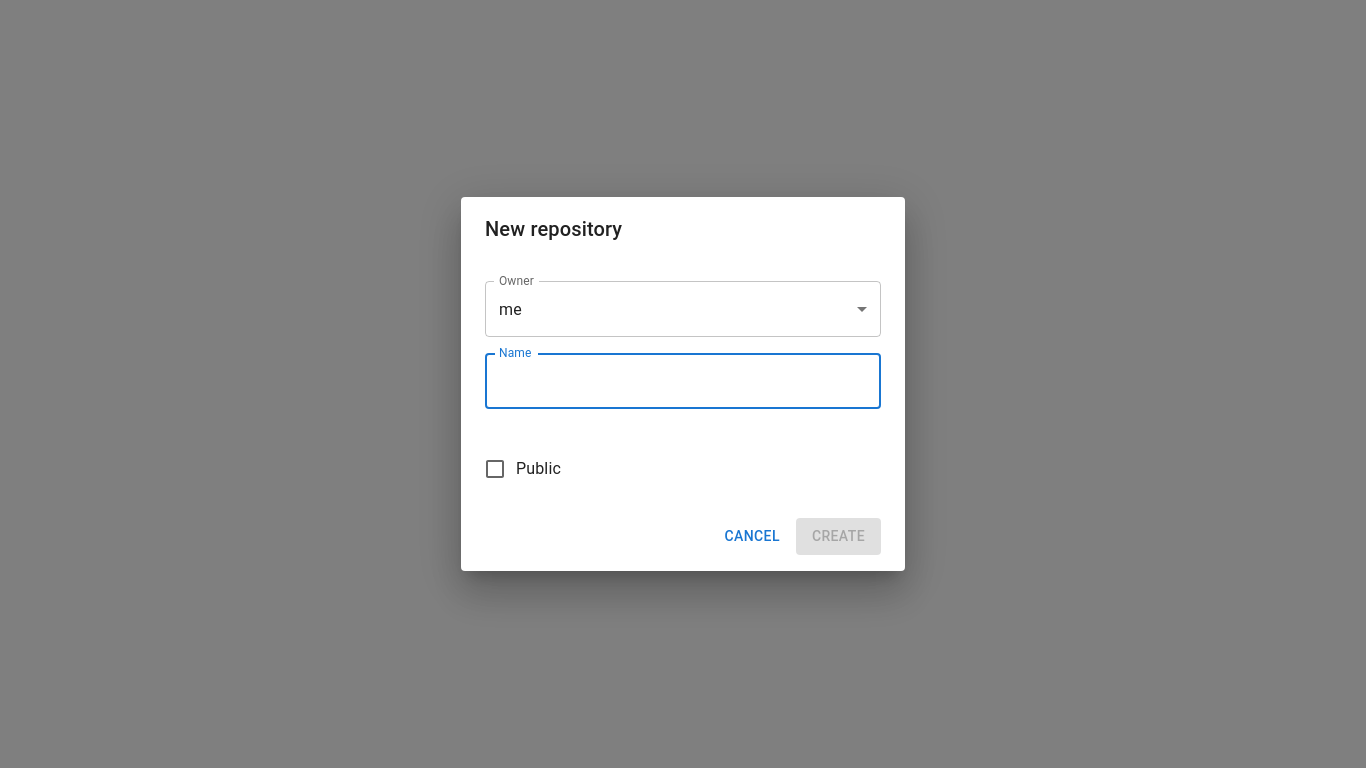
NewRepositoryDialog › on a lost answer shows the message, asks for the list again and replays the same key
Later steps or results of the test are not shown.
Type "demo" into the field labelled "Name". click: (683, 381)
box: left=485, top=353, right=881, bottom=409
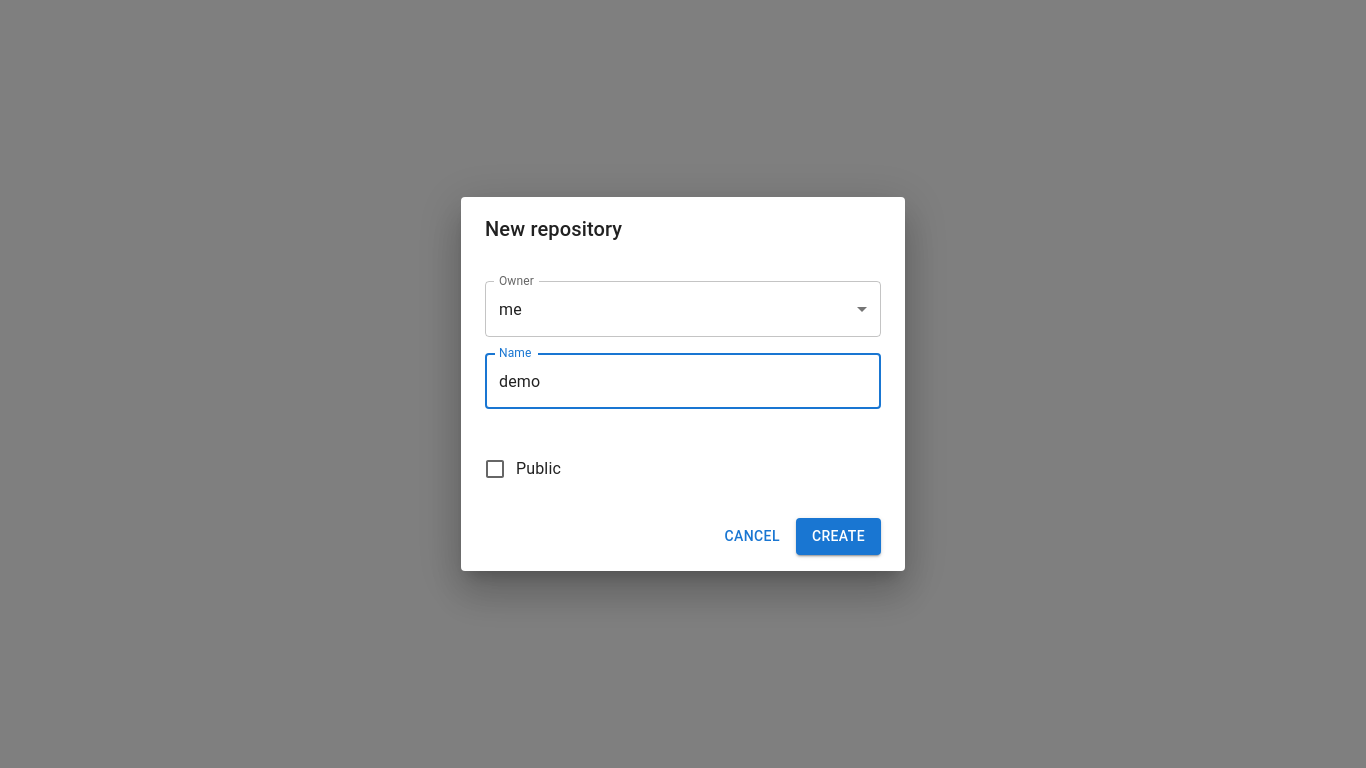
Click the button "Create". click: click(838, 536)
box: left=796, top=518, right=881, bottom=555
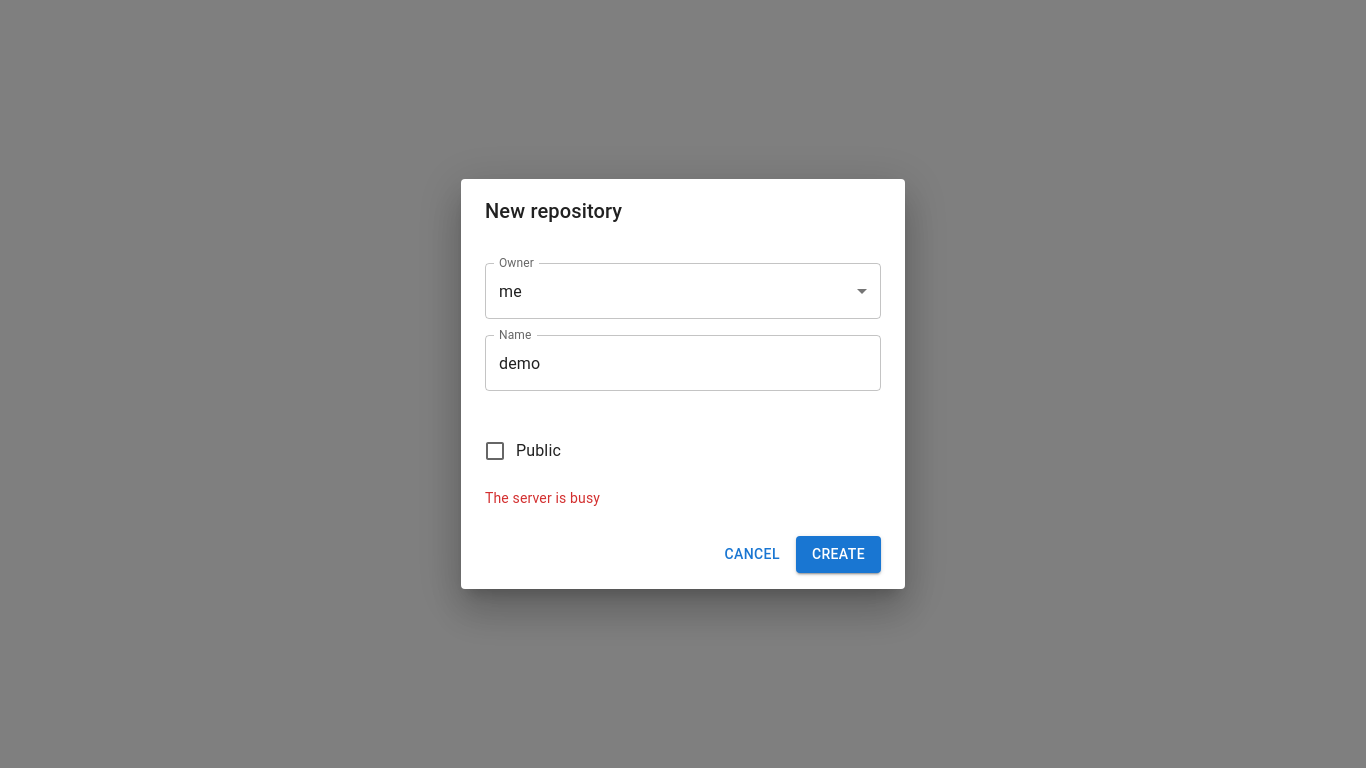
Expected: the message reads "The server is busy", left=485, top=490, right=600, bottom=506
